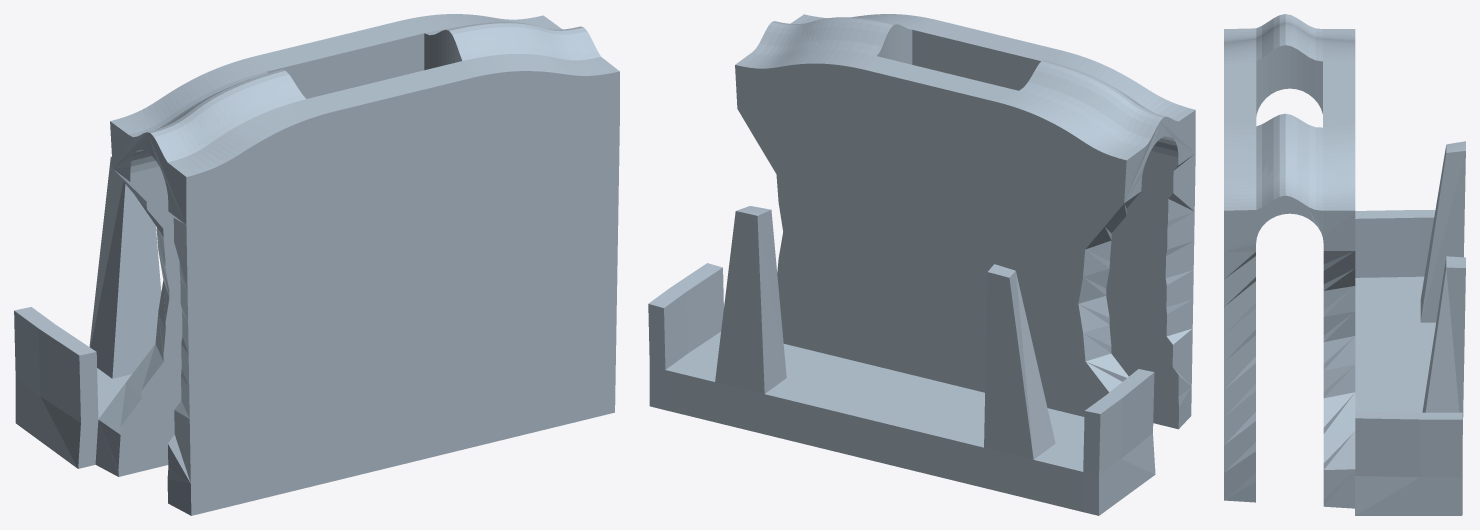
Rendered from belt-holder-7e4896e4.glb.
3 renders of one model, left to right at view 1: azimuth 30°, elevation 25°; view 2: azimuth 150°, elevation 25°; view 3: azimuth 270°, elevation 25°, orthographic. The views are drawn at different scales.
Parts seen in each view (by area): view 1: Belt Holder; view 2: Belt Holder; view 3: Belt Holder.
Part boxes in pixels (x1,y1,x2,y2): Belt Holder: (14,14,619,515); Belt Holder: (648,14,1195,515); Belt Holder: (1224,14,1465,515).
Size of the model in its own units: 2.5 by 1.85 by 1.22.
